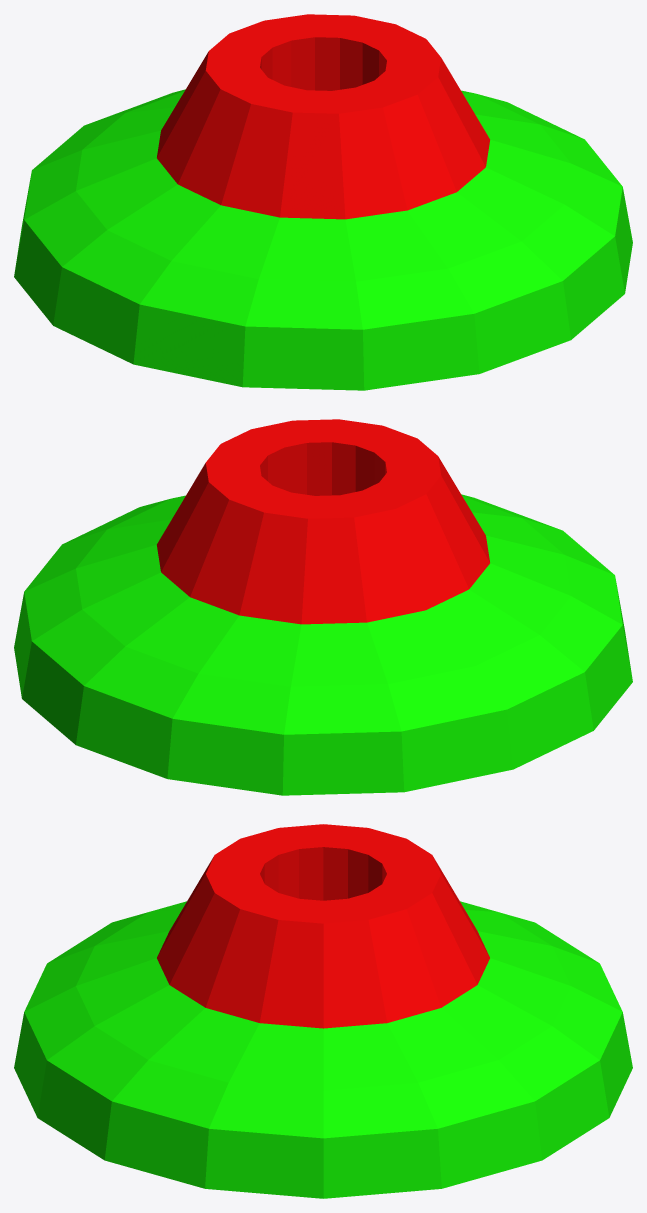
File: KojimaProjector.FBX
3 renders of one model, top to bottom at view 1: azimuth 30°, elevation 25°; view 2: azimuth 150°, elevation 25°; view 3: azimuth 270°, elevation 25°, orthographic.
Visible parts, largest first — view 1: Line002; view 2: Line002; view 3: Line002.
Boxes of the visible parts, x1,y1,x2,y2 form: Line002: [14, 14, 632, 390]; Line002: [14, 419, 632, 795]; Line002: [14, 824, 632, 1198].
Bounding box in the file's own units: 200 × 90 × 200.
